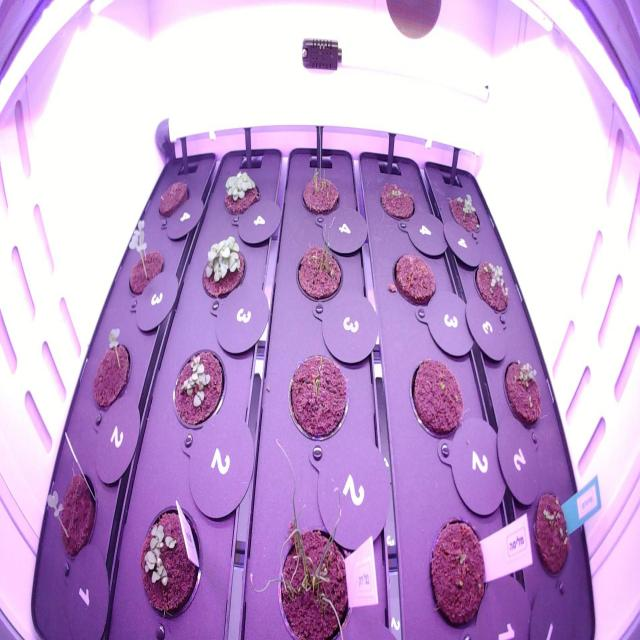germination: (250, 435, 372, 640), (134, 490, 208, 626), (282, 339, 354, 448), (39, 456, 106, 572), (284, 212, 349, 315), (164, 332, 230, 432), (528, 470, 576, 590), (86, 320, 137, 422), (501, 340, 549, 440), (468, 251, 515, 325), (296, 160, 344, 224), (439, 180, 487, 242), (373, 173, 419, 227)
pod: (419, 501, 495, 637), (404, 352, 472, 445), (390, 244, 439, 314), (151, 170, 194, 224)
